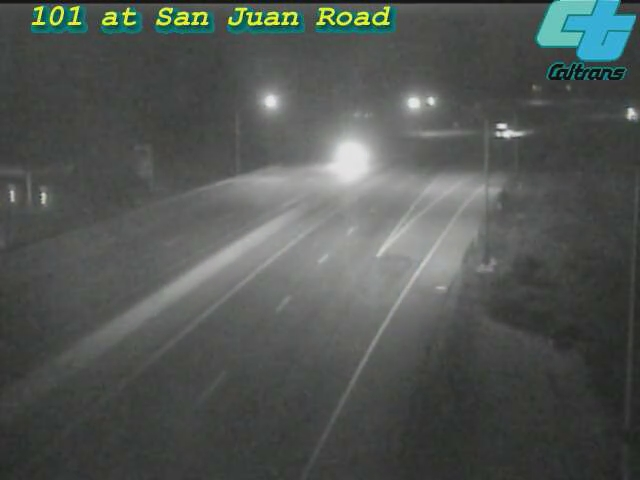vehicle: (322, 131, 372, 181), (491, 103, 541, 153)
